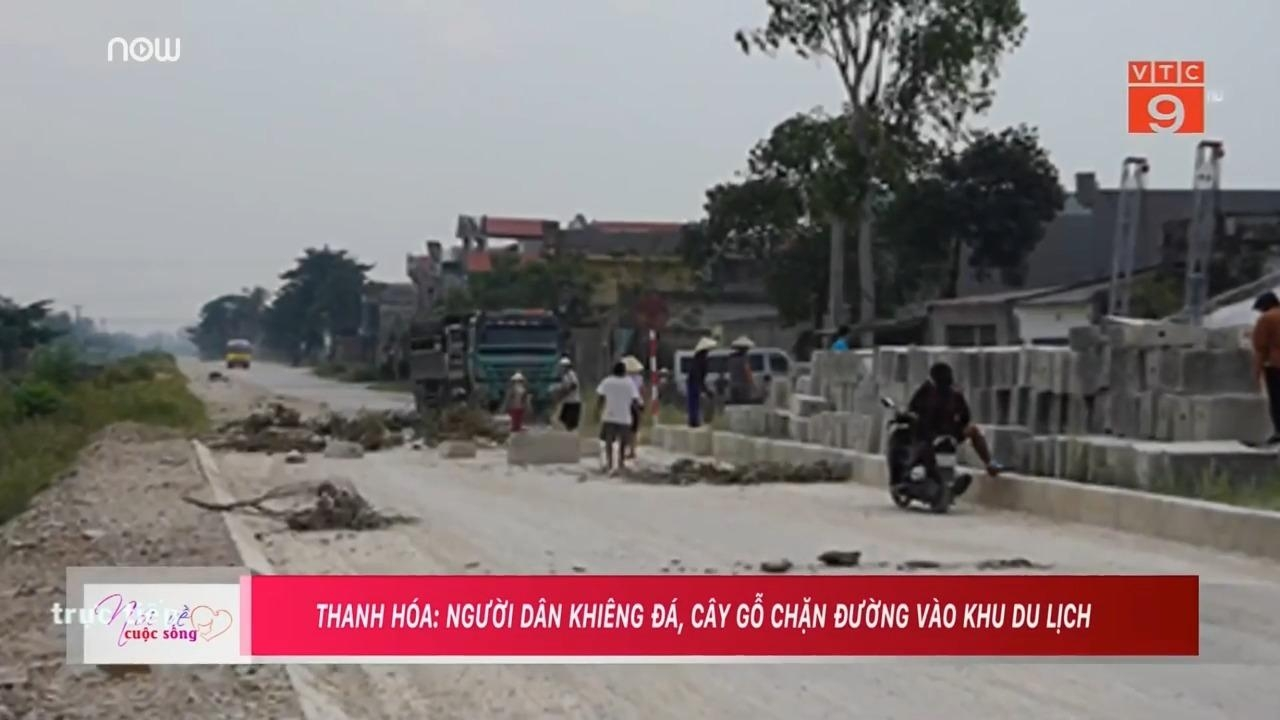bus: (224, 338, 252, 368)
car: (674, 344, 794, 404)
motorcycle: (878, 395, 974, 513)
truck: (404, 301, 569, 424)
